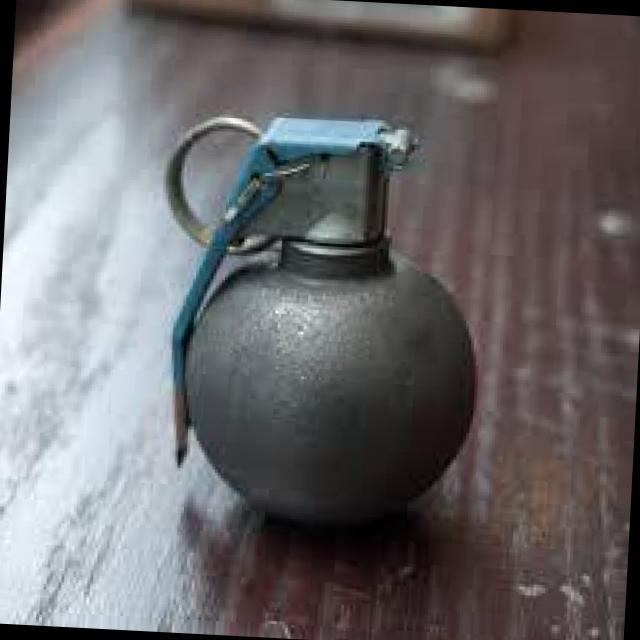grenade: (155, 96, 499, 548)
